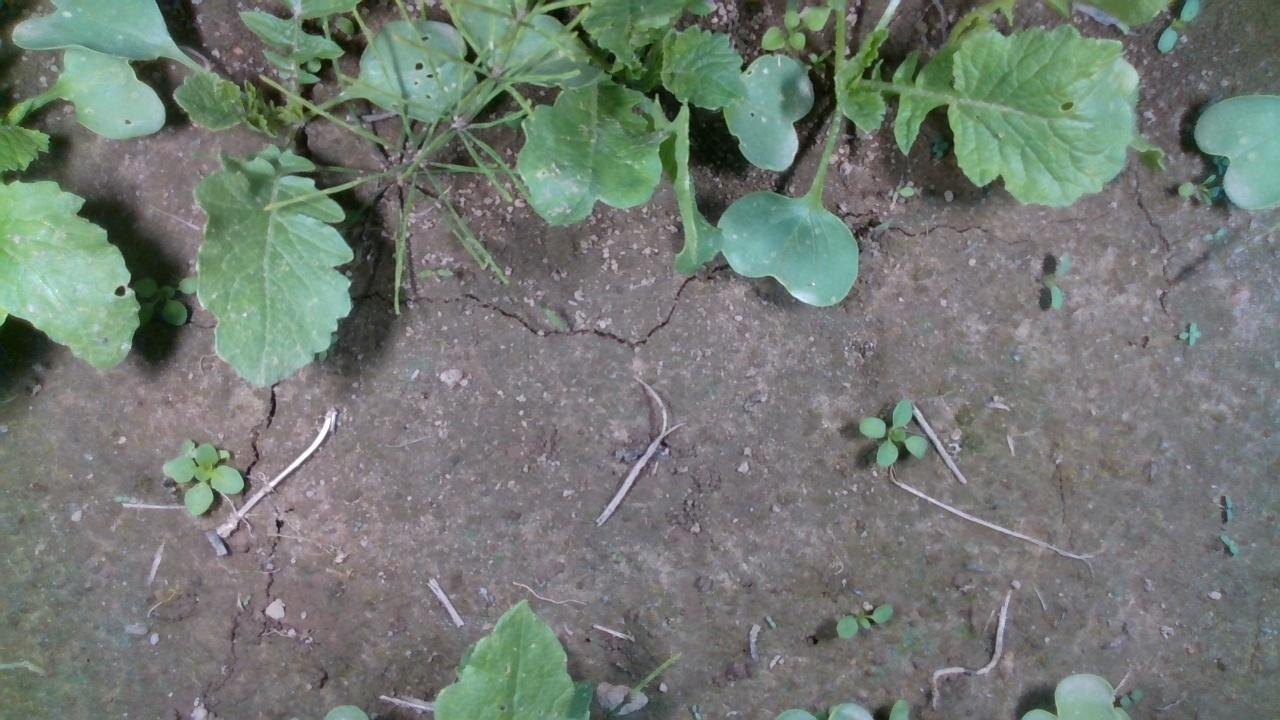weed: (856, 394, 929, 470), (832, 599, 892, 639), (1045, 250, 1071, 312), (1174, 317, 1200, 346)
